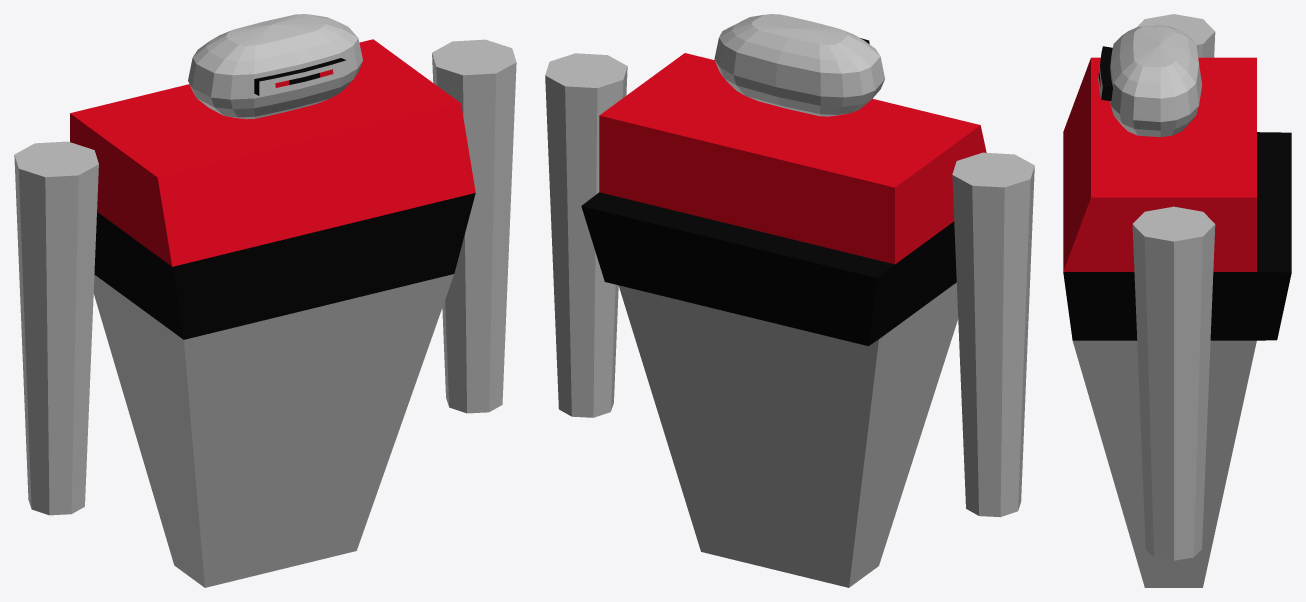
File: Robot400.fbx
The picture shows the model from 3 angles, left to right: view 1: azimuth 30°, elevation 25°; view 2: azimuth 150°, elevation 25°; view 3: azimuth 270°, elevation 25°; orthographic projection. The views are drawn at different scales.
Parts seen in each view (by area): view 1: Robot; view 2: Robot; view 3: Robot.
Part boxes in pixels (x1,y1,x2,y2): Robot: [14, 14, 516, 587]; Robot: [545, 14, 1034, 587]; Robot: [1063, 14, 1291, 587].
Bounding box in the file's own units: 195 × 204 × 82.79.
